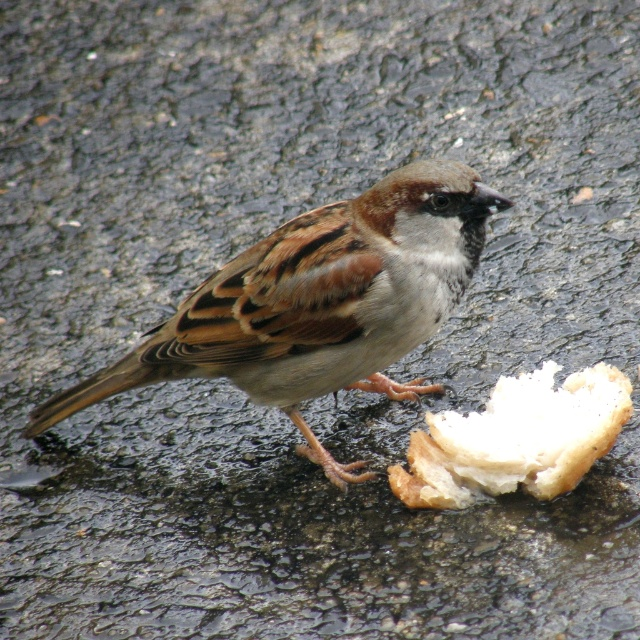Sparrow: (20, 158, 520, 498)
